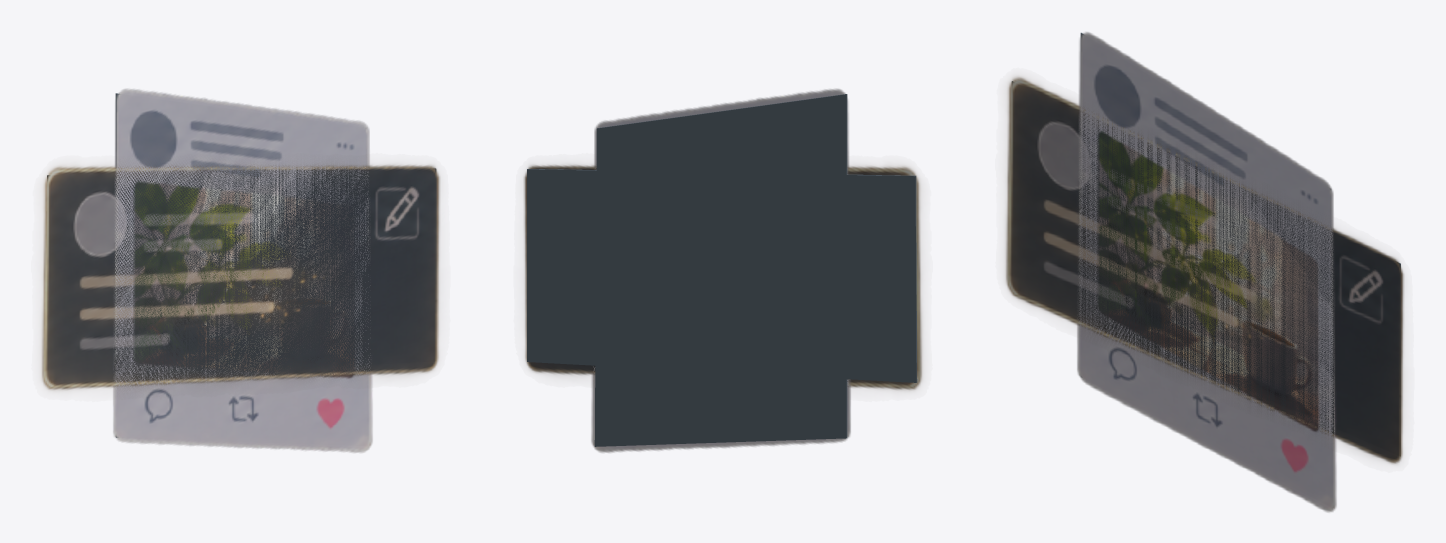
File: title_ui.glb
3 renders of one model, left to right at view 1: azimuth 30°, elevation 25°; view 2: azimuth 150°, elevation 25°; view 3: azimuth 330°, elevation 25°, orthographic.
Visible parts, largest first — view 1: DraftPostArtwork, PhotoPostArtwork; view 2: DraftPostEdge, PhotoPostEdge, PhotoPostArtwork, DraftPostArtwork; view 3: PhotoPostArtwork, DraftPostArtwork.
Part boxes in pixels (left/top/right/bottom): DraftPostArtwork: left=41, top=164, right=440, bottom=390; PhotoPostArtwork: left=113, top=89, right=372, bottom=452; DraftPostEdge: left=527, top=169, right=917, bottom=382; PhotoPostEdge: left=594, top=94, right=847, bottom=446; PhotoPostArtwork: left=591, top=89, right=850, bottom=452; DraftPostArtwork: left=523, top=164, right=922, bottom=390; PhotoPostArtwork: left=1077, top=32, right=1336, bottom=512; DraftPostArtwork: left=1005, top=76, right=1404, bottom=464.
Bounding box in the file's own units: 448 × 421 × 1.2.
Materials: 4 (2 with a texture image).
